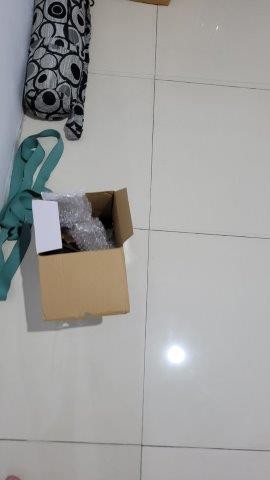kardus: (32, 187, 133, 318)
